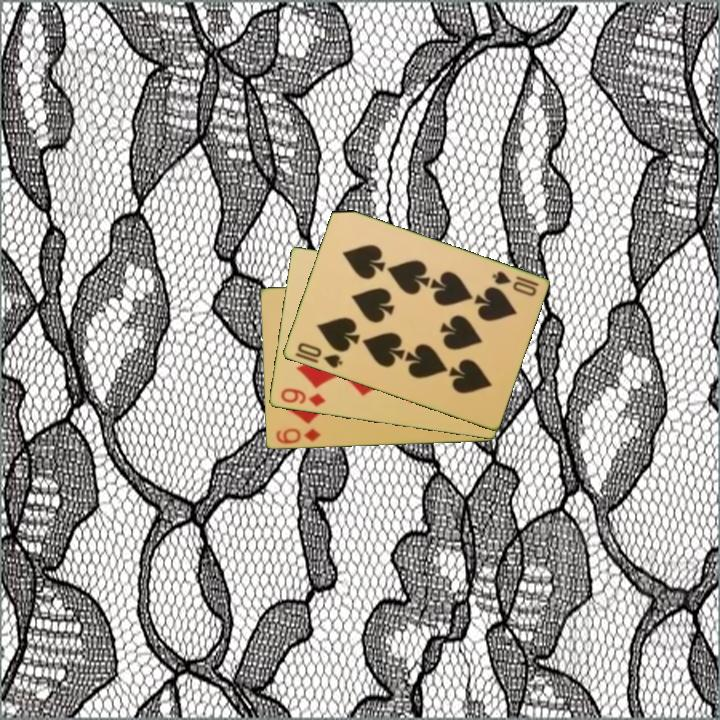10s: (488, 268, 541, 299), (294, 339, 345, 371)
6d: (272, 425, 323, 447)
9d: (277, 385, 328, 409)
